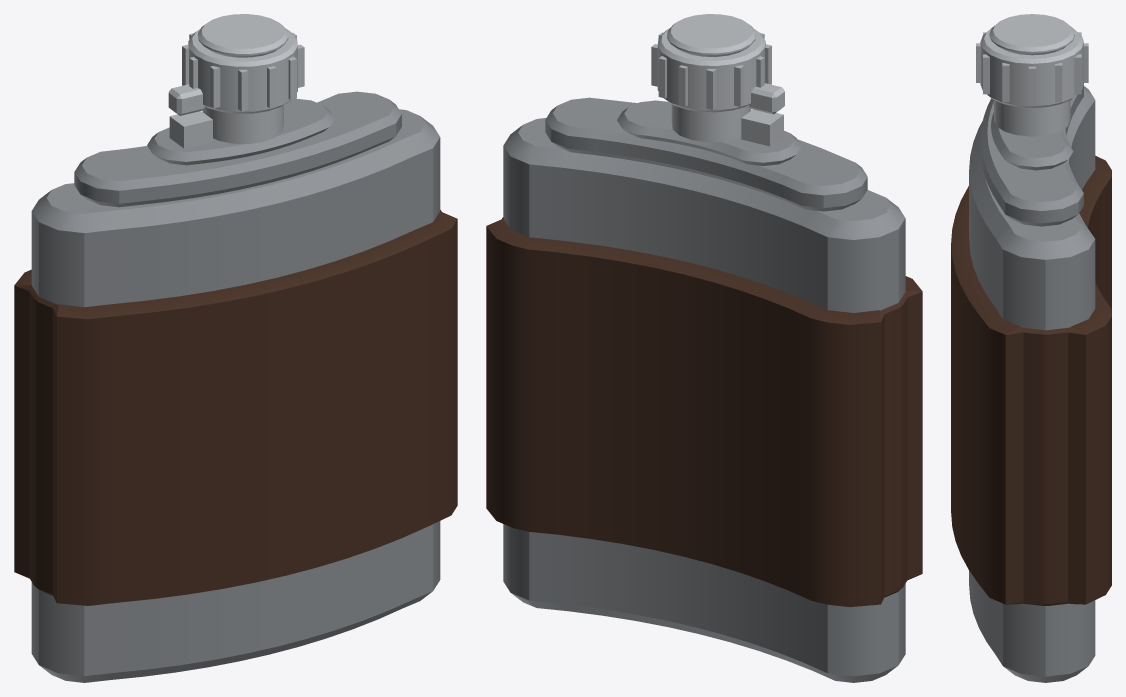
Rendered from prop_throwable_steady_flask.glb.
The picture shows the model from 3 angles, left to right: view 1: azimuth 30°, elevation 25°; view 2: azimuth 150°, elevation 25°; view 3: azimuth 270°, elevation 25°; orthographic projection. The views are drawn at different scales.
Parts seen in each view (by area): view 1: Body, Pin; view 2: Body, Pin; view 3: Body, Pin.
Part boxes in pixels (x1,y1,x2,y2): Body: (14,91,457,682); Pin: (168,14,304,115); Body: (486,97,922,682); Pin: (651,14,784,114); Body: (951,85,1111,682); Pin: (976,14,1088,107).
Size of the model in its own units: 0.0966 by 0.139 by 0.0357.
